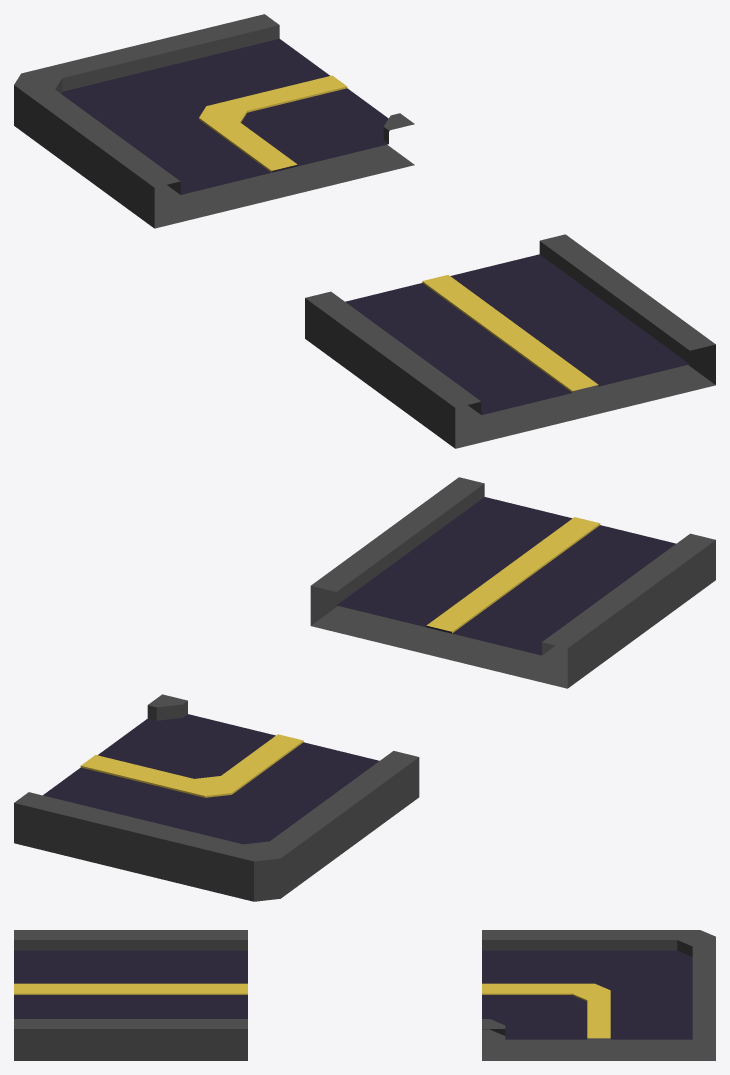
File: TilemapPista.fbx
The picture shows the model from 3 angles, top to bottom: view 1: azimuth 30°, elevation 25°; view 2: azimuth 150°, elevation 25°; view 3: azimuth 270°, elevation 25°; orthographic projection. The views are drawn at different scales.
Visible parts, largest first — view 1: PistaRecta, PistaCurva; view 2: PistaRecta, PistaCurva; view 3: PistaRecta, PistaCurva.
Boxes of the visible parts, x1=… form: PistaRecta: x1=305, y1=234, x2=715, y2=448; PistaCurva: x1=14, y1=14, x2=414, y2=228; PistaRecta: x1=310, y1=477, x2=715, y2=688; PistaCurva: x1=14, y1=694, x2=419, y2=901; PistaRecta: x1=14, y1=930, x2=247, y2=1060; PistaCurva: x1=482, y1=930, x2=715, y2=1060.
Size of the model in its own units: 200 by 30 by 600.
